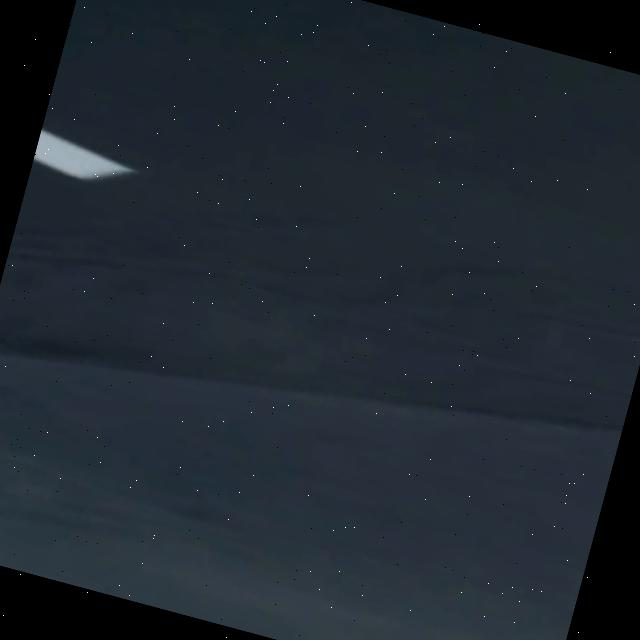center: (31, 128, 135, 180)
